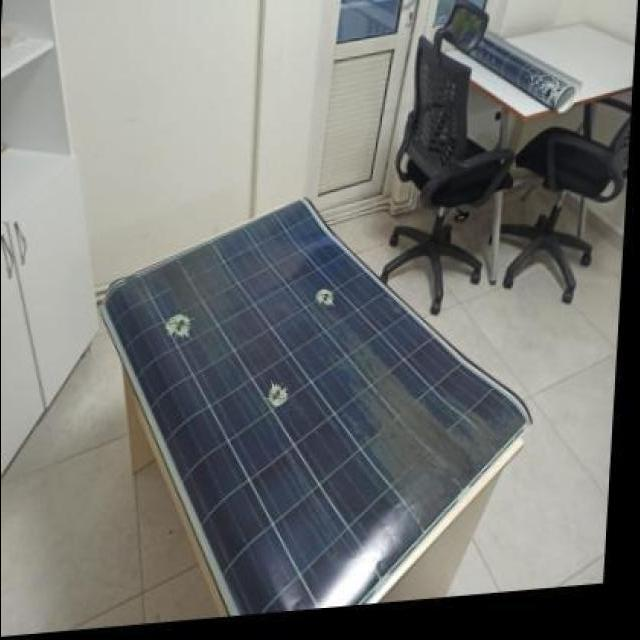soiled: (100, 181, 535, 625)
